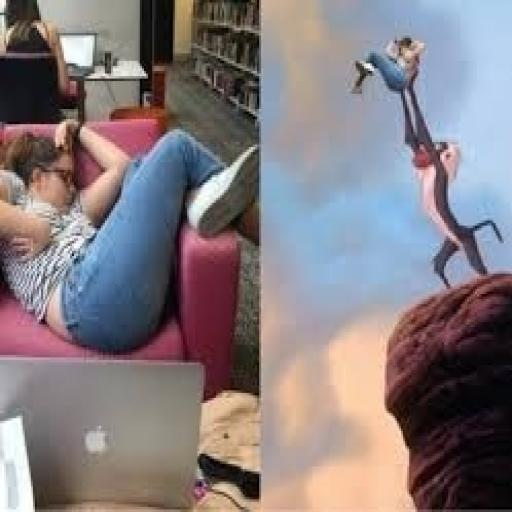sleeping: (0, 114, 259, 352)
